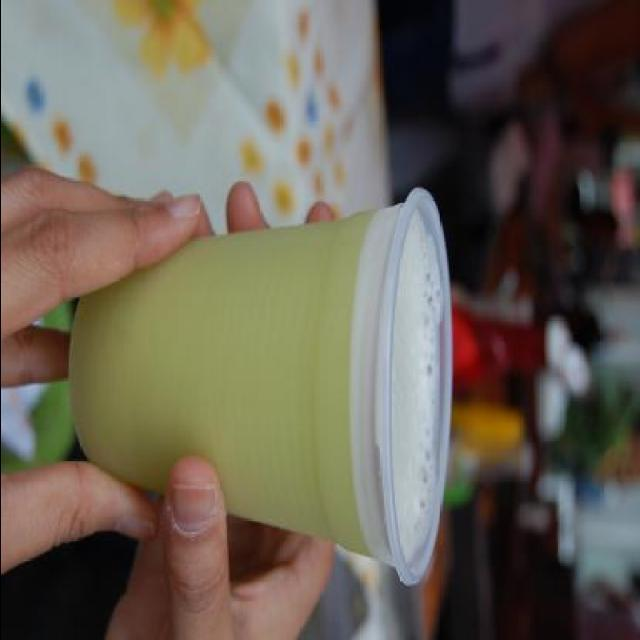Juice: (73, 180, 449, 576)
